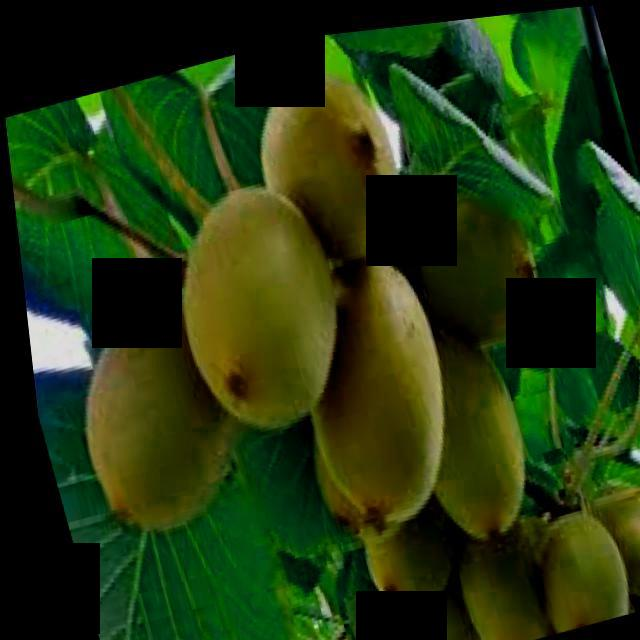kiwi: (258, 224, 476, 540), (144, 158, 367, 447), (41, 257, 265, 543), (232, 48, 420, 274), (380, 314, 541, 550), (380, 169, 554, 365), (332, 458, 475, 619), (426, 489, 555, 640), (509, 497, 628, 631), (568, 470, 640, 608), (379, 562, 479, 640)
